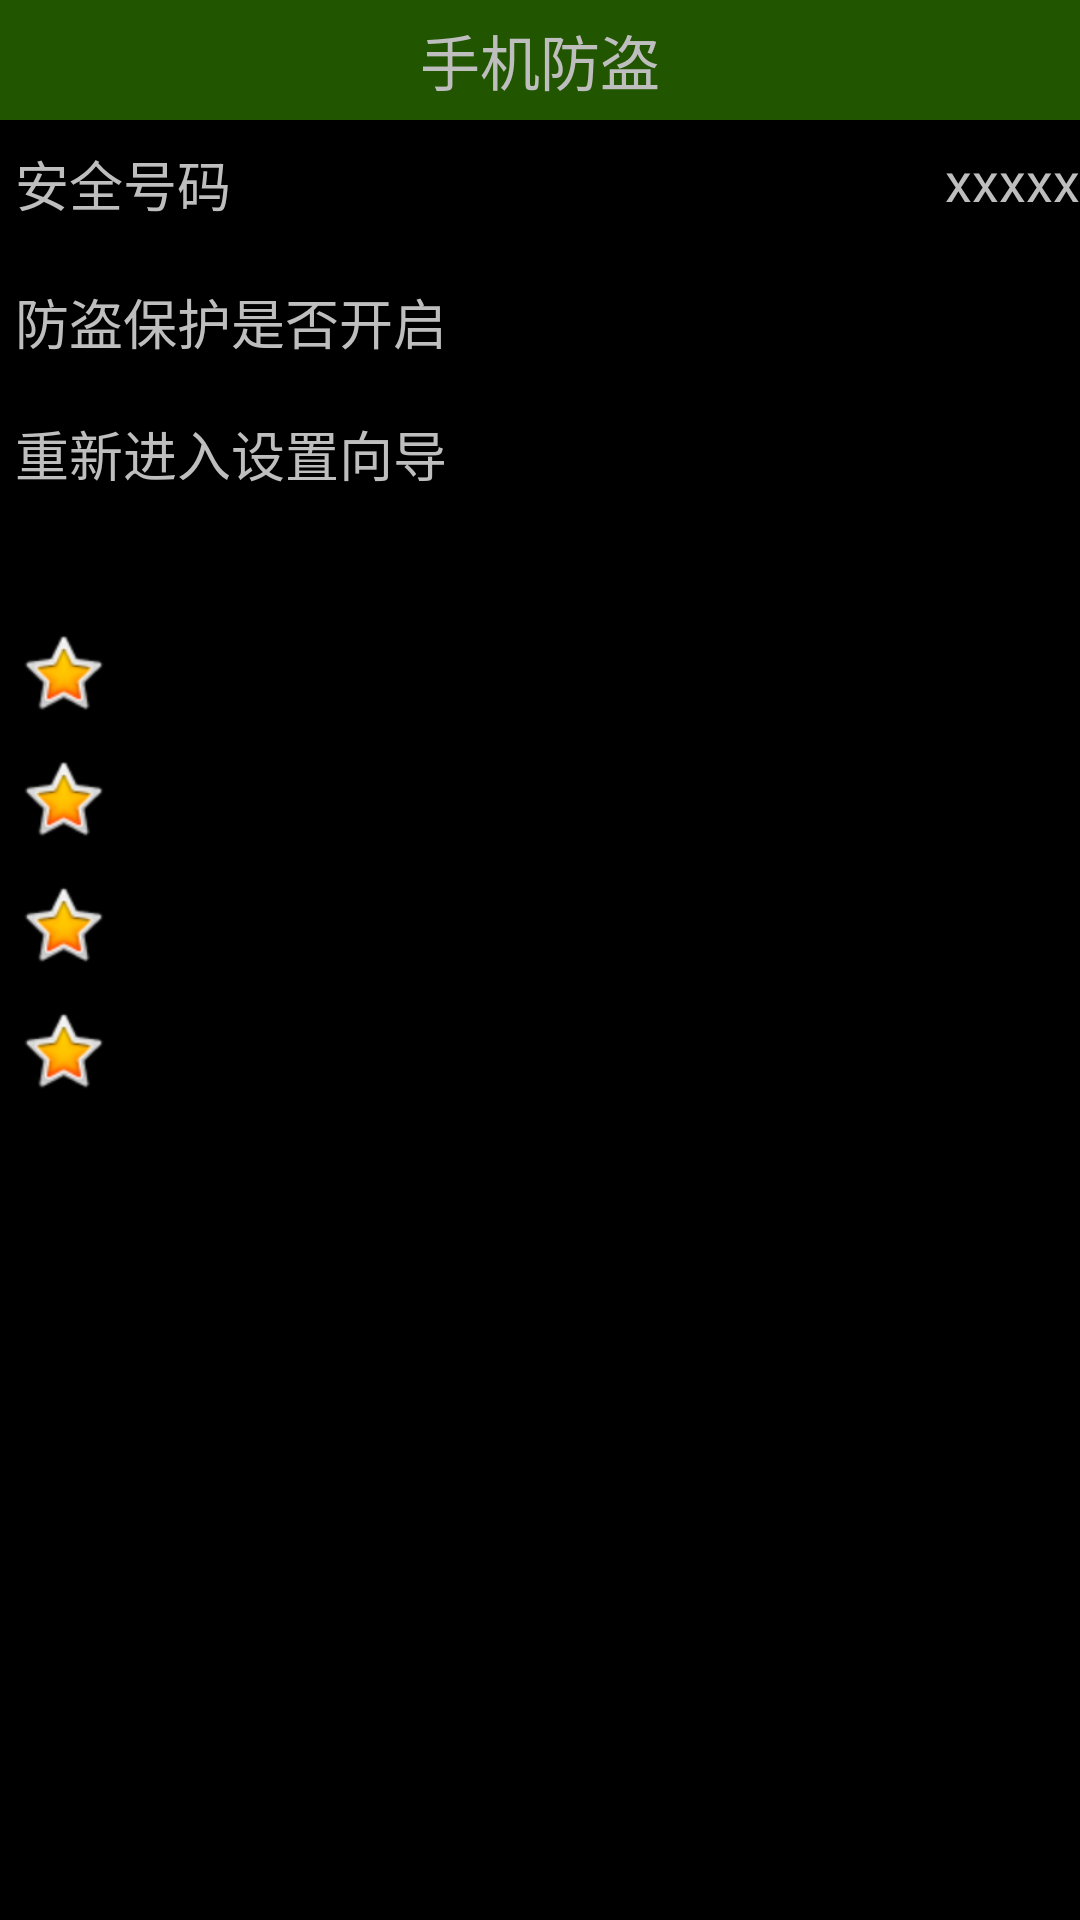

Locate icon controls on the screen. Image size 1080×1920, boxes as (x1, y1, x2, y2).
star on: (25, 636, 103, 710), (25, 762, 103, 836), (25, 888, 103, 962), (25, 1014, 103, 1088)
